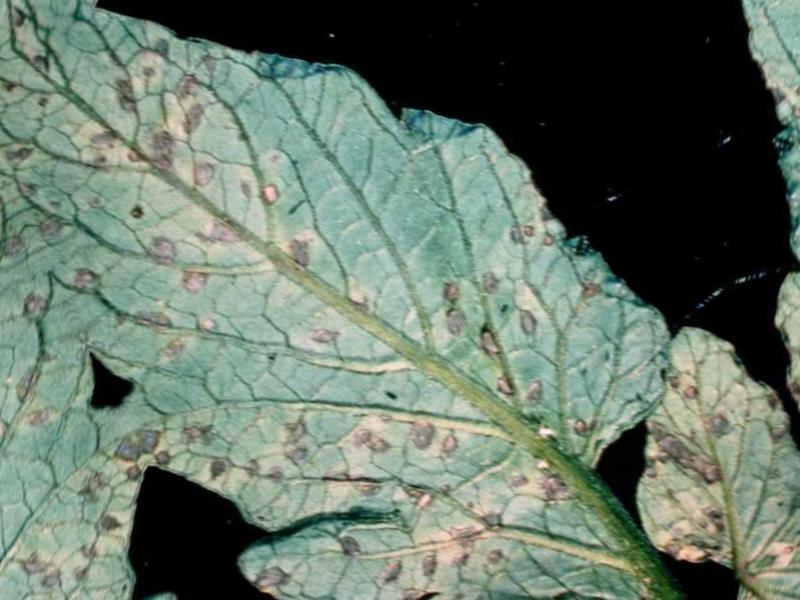Tomato Septoria leaf spot: (0, 0, 800, 600), (570, 304, 800, 600)
